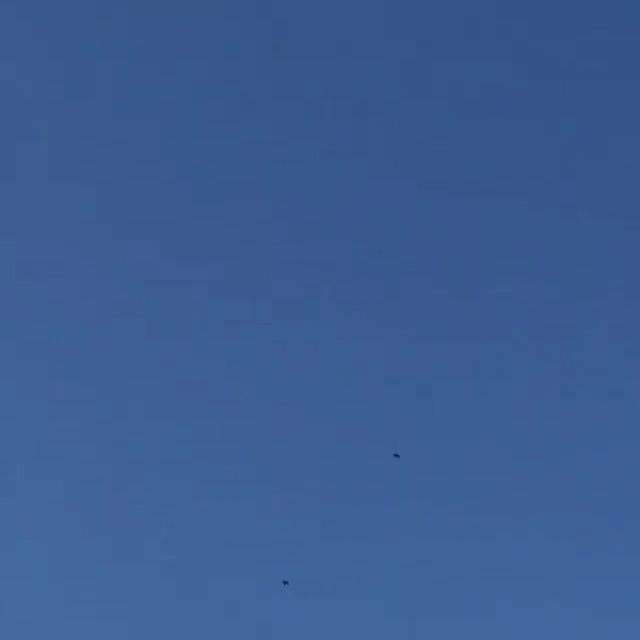bird: (389, 445, 406, 465), (280, 578, 292, 592)
